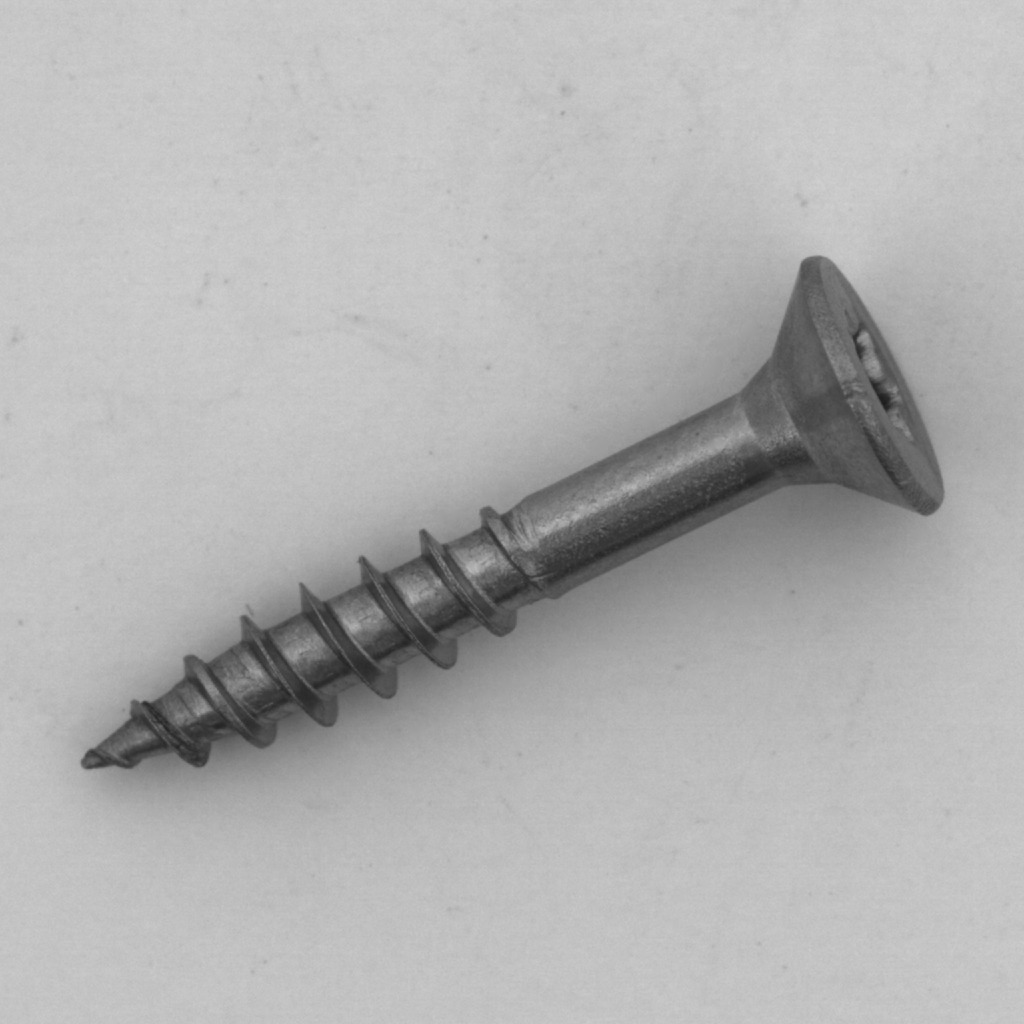good: (54, 232, 983, 792)
